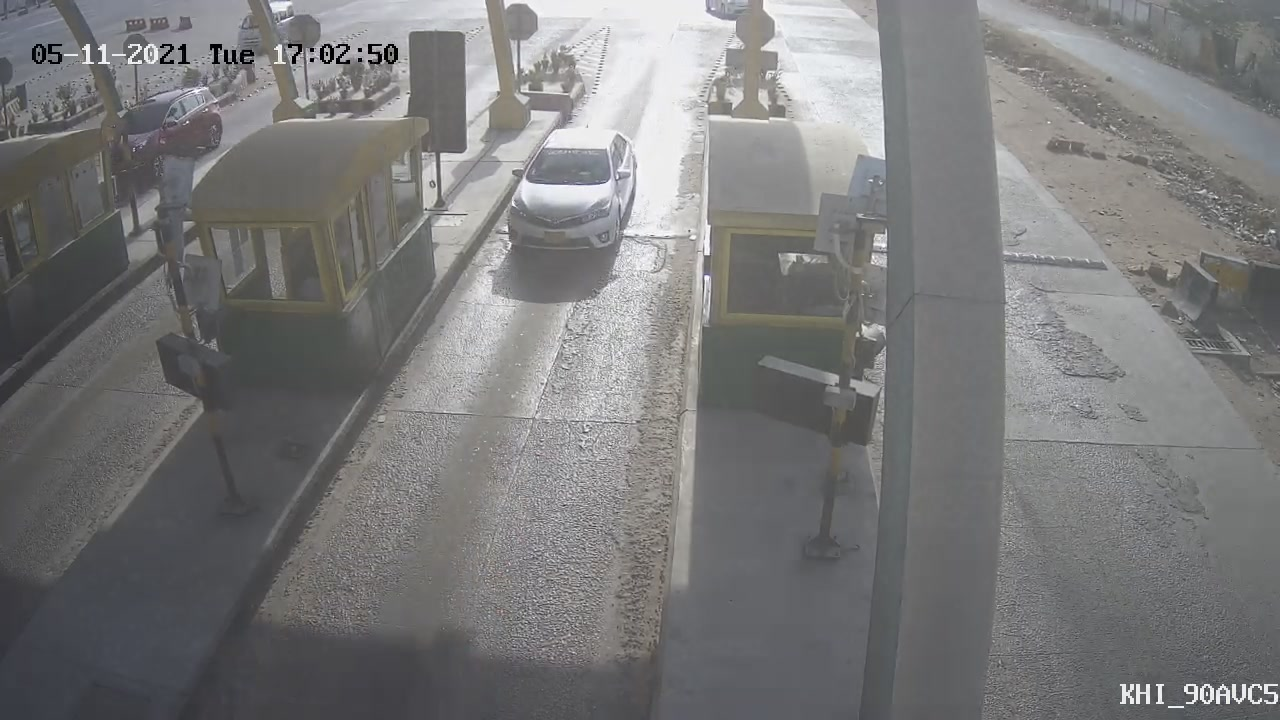F1: (483, 105, 661, 286)
